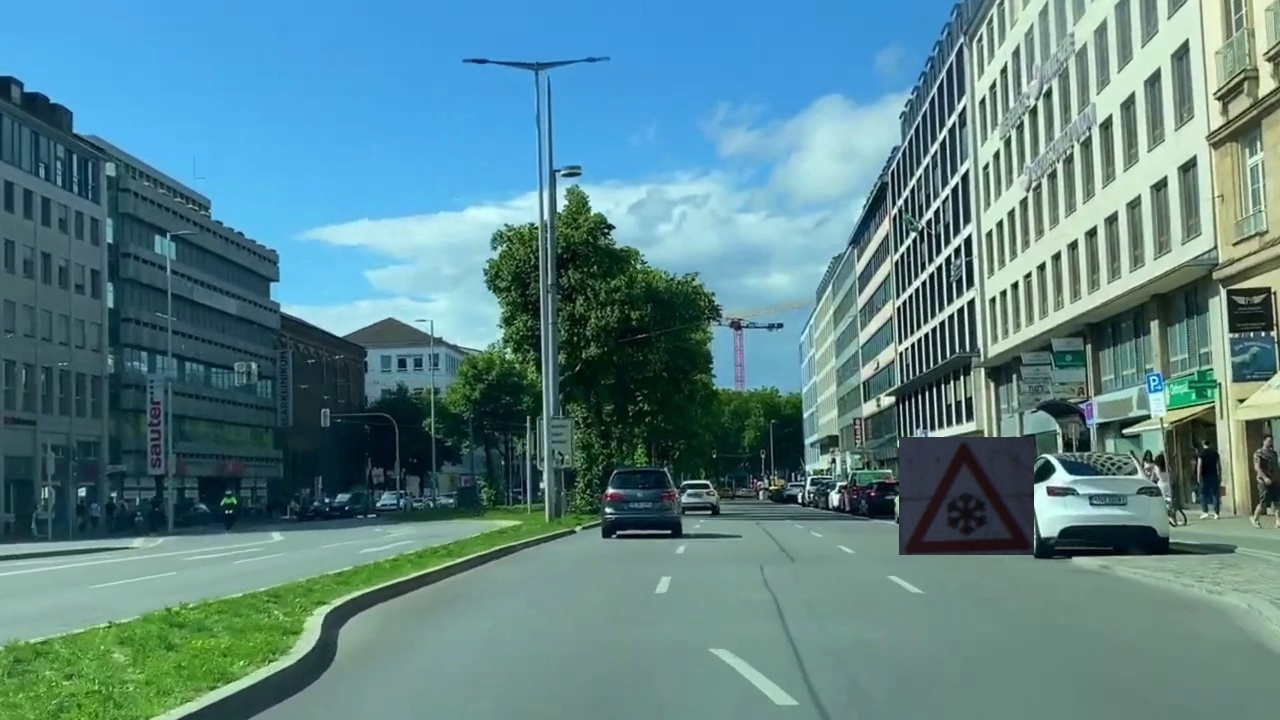Ice/snow: (899, 437, 1034, 555)
